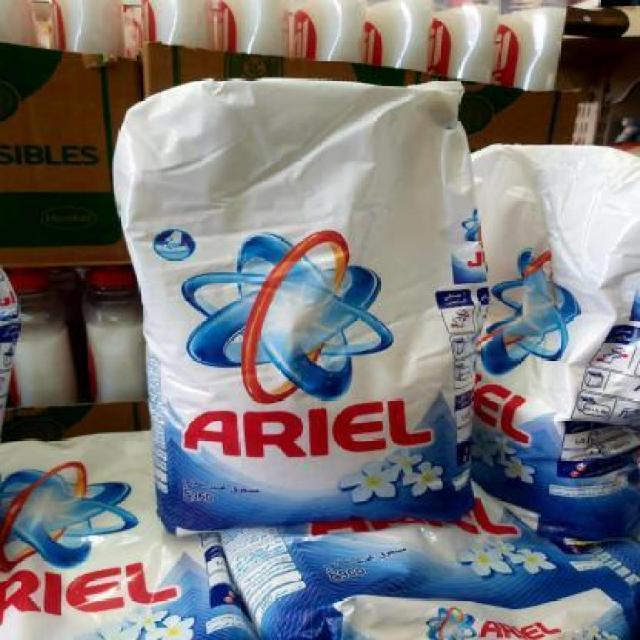Detergent: (110, 83, 470, 529), (472, 128, 640, 506), (227, 501, 626, 640), (0, 433, 252, 639)
